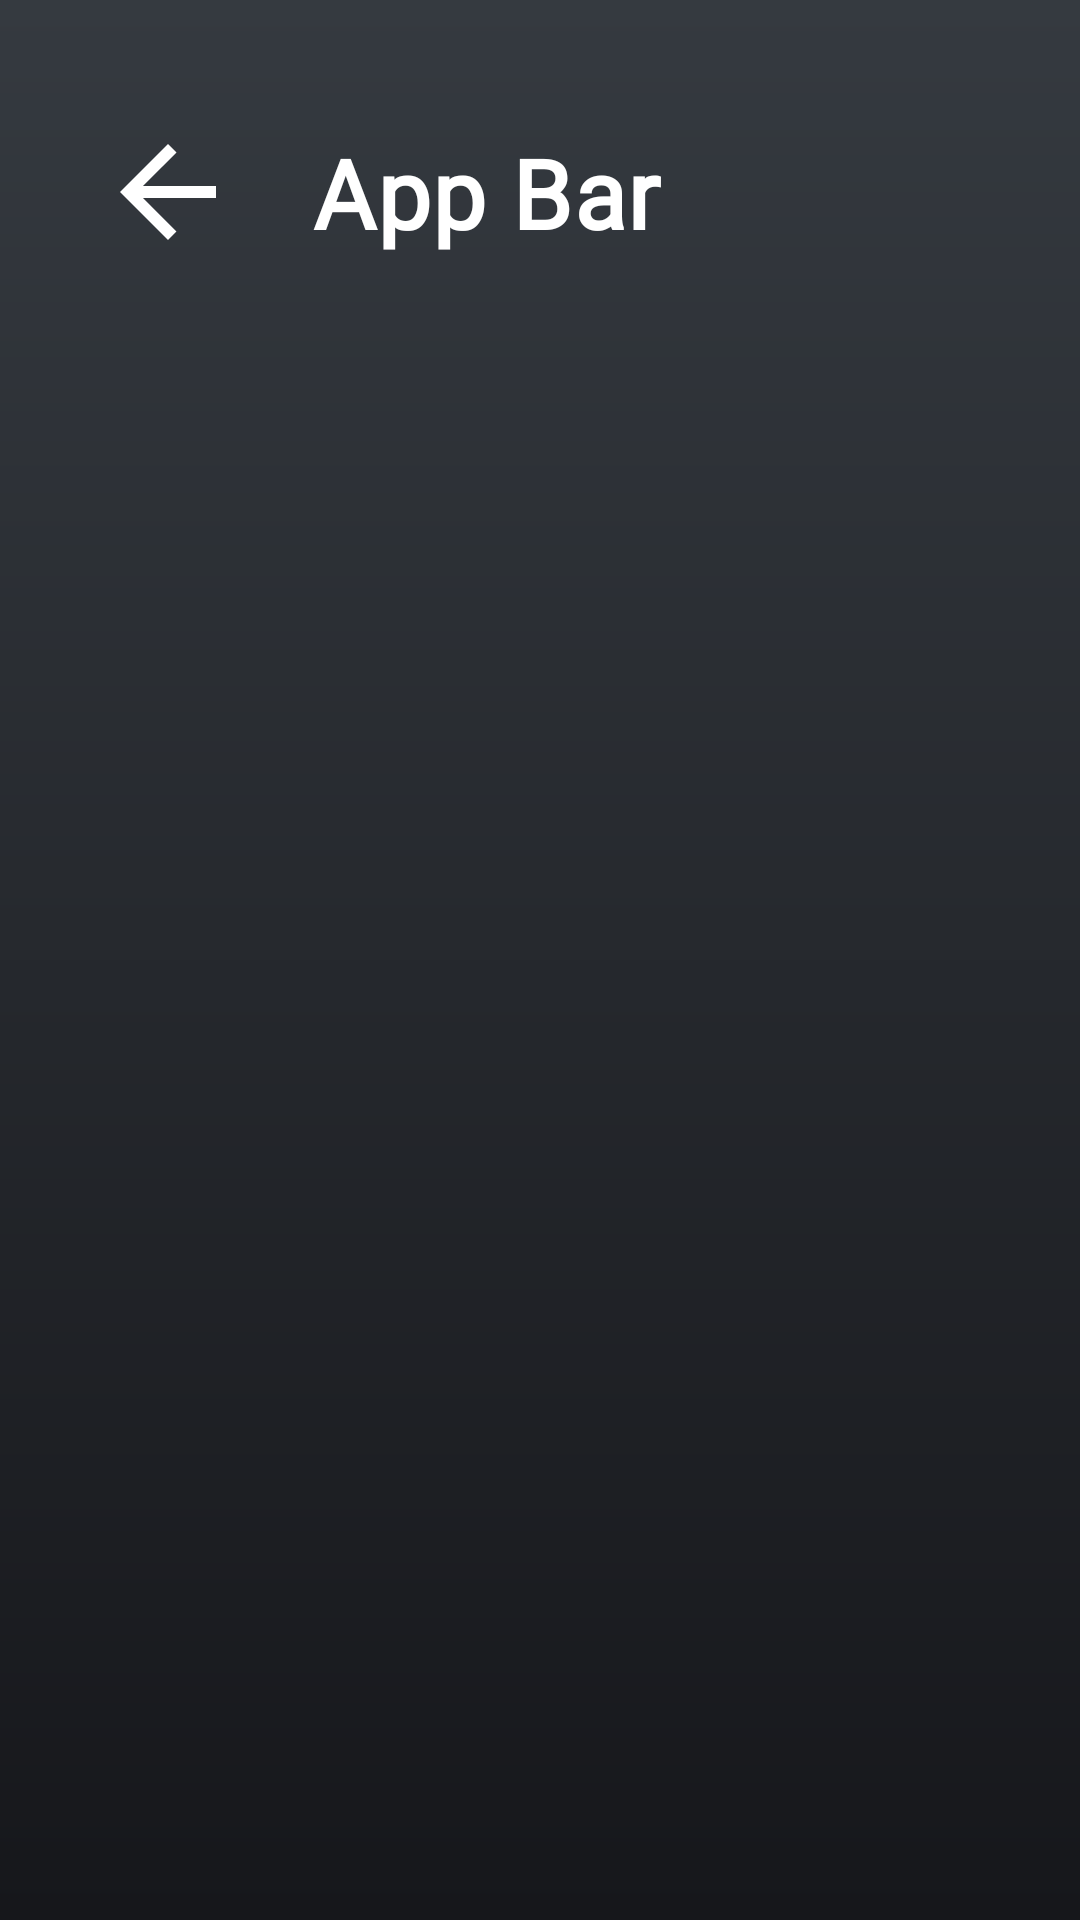

Point at icon controls on the screen. Image size 1080 x 1920, points as point (x, y).
arrow back: point (168, 192)
